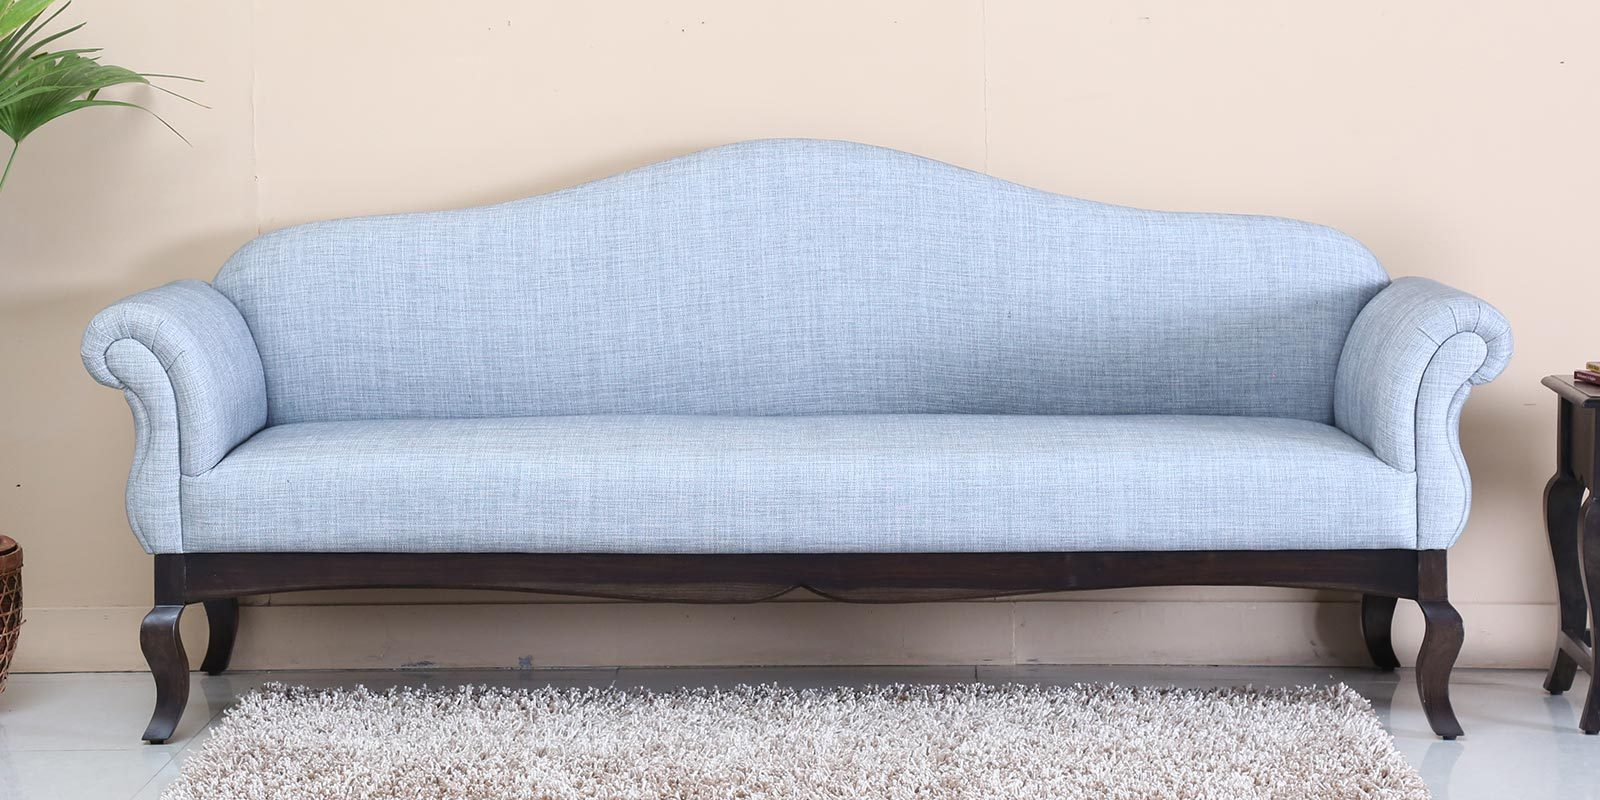Anne Three Seater Sofa in Warm Chestnut Finish by Amberville: (88, 132, 1516, 782)
